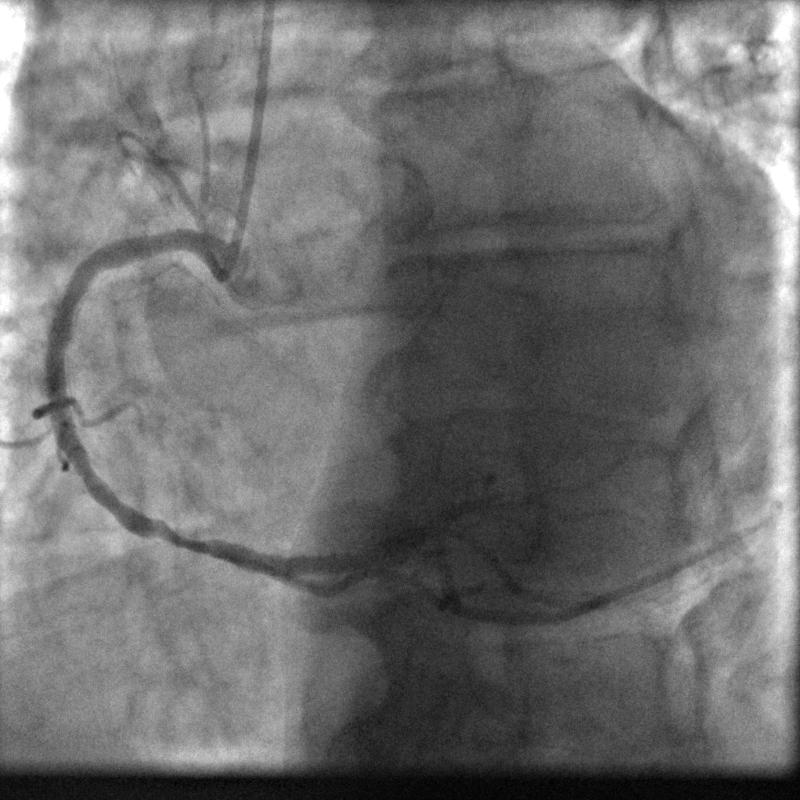Stenosis: (149, 519, 206, 553)
